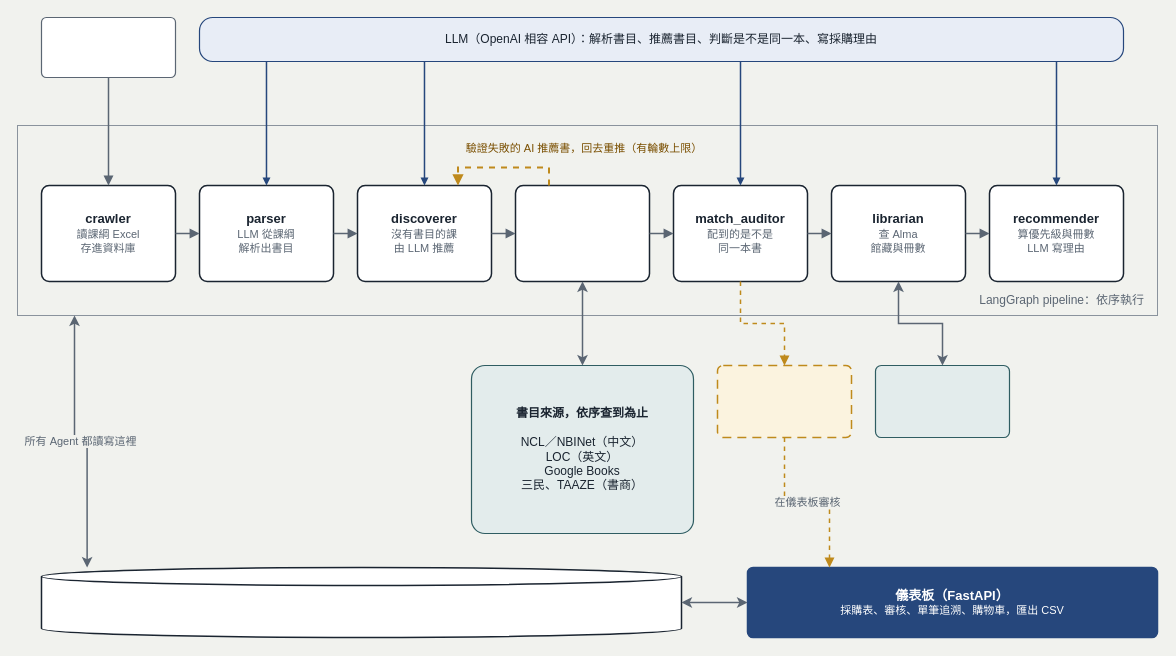
The diagram is 1176 pixels wide and 656 high, and some of its shapes have lost their labels. Each missing label, with the centre of its shape:
"Alma 政大圖書館館藏" belongs at [942,401].
"human_review 存疑的書 送人工審核" belongs at [784,401].
"PostgreSQL 課程、書目、驗證結果、館藏、採購建議、購物車的決定" belongs at [361,602].
"validator 驗證書目 是否真的存在" belongs at [582,233].
"課程大綱 Excel 政大課程查詢系統" belongs at [108,47].
